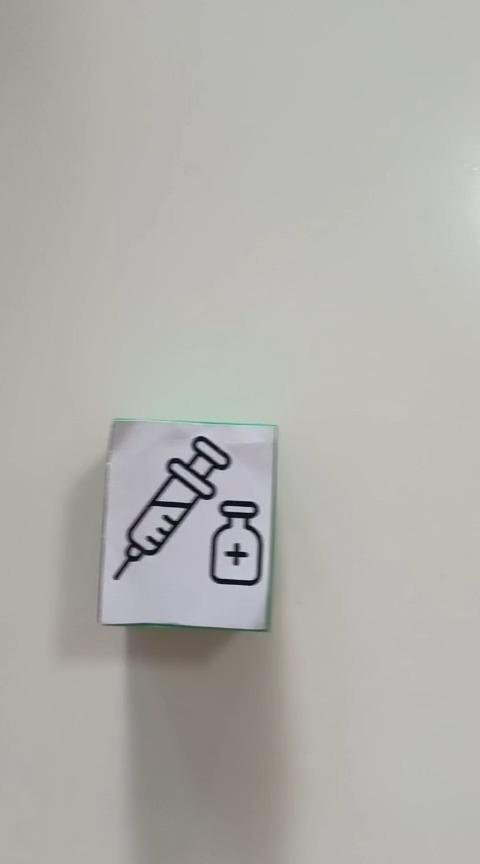antiseptic cream: (96, 417, 278, 632)
